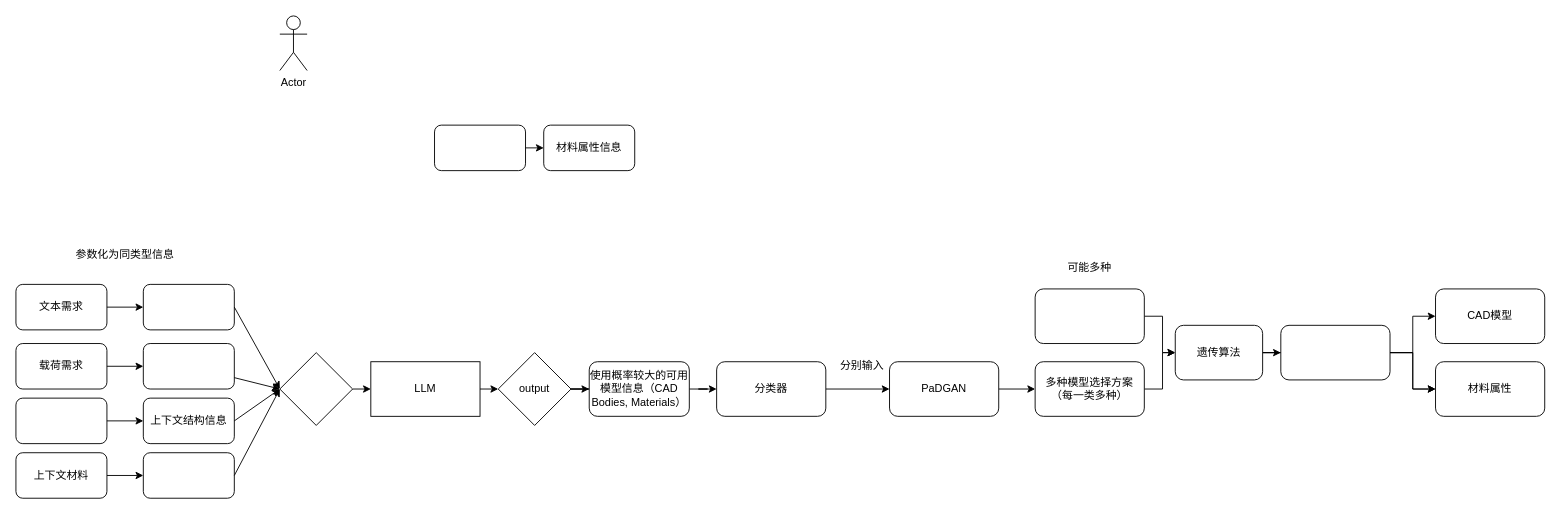
This 1561x514 diagram has some shape labels left out. The centre of each missing label's shape, as x and y in pixels:
input: [316,388]
上下文材料信息: [188,475]
上下文结构: [61,420]
文本信息: [188,306]
材料库: [480,147]
表现最好的几类方案: [1335,352]
评价指标（重量）: [1089,316]
载荷信息: [188,366]
